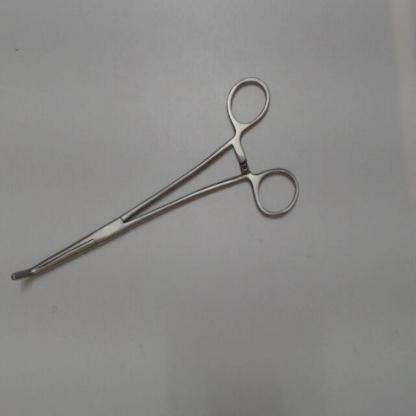Lahey Forceps: (5, 72, 305, 288)
